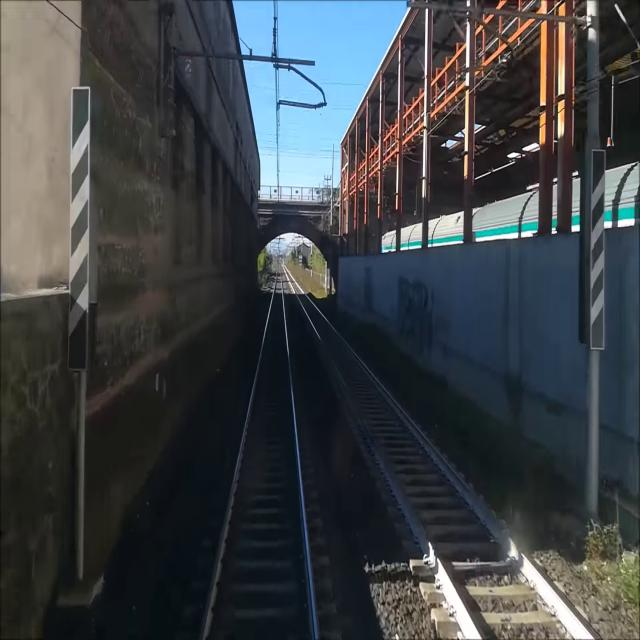rail-track: (284, 267, 595, 639), (202, 263, 315, 639)
